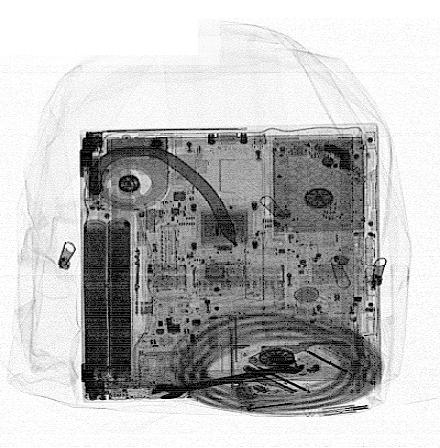Wrench: (149, 357, 307, 400)
